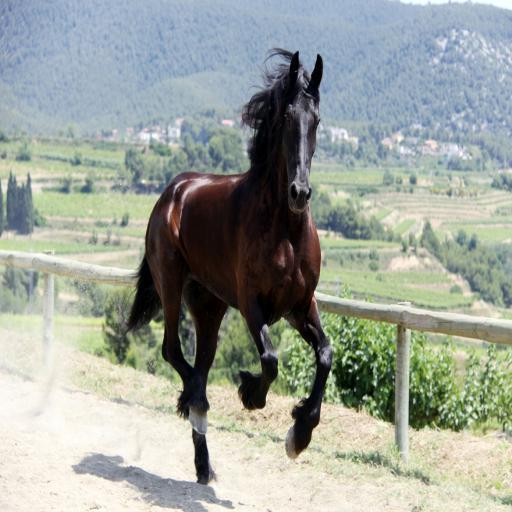horse: (124, 44, 332, 487)
